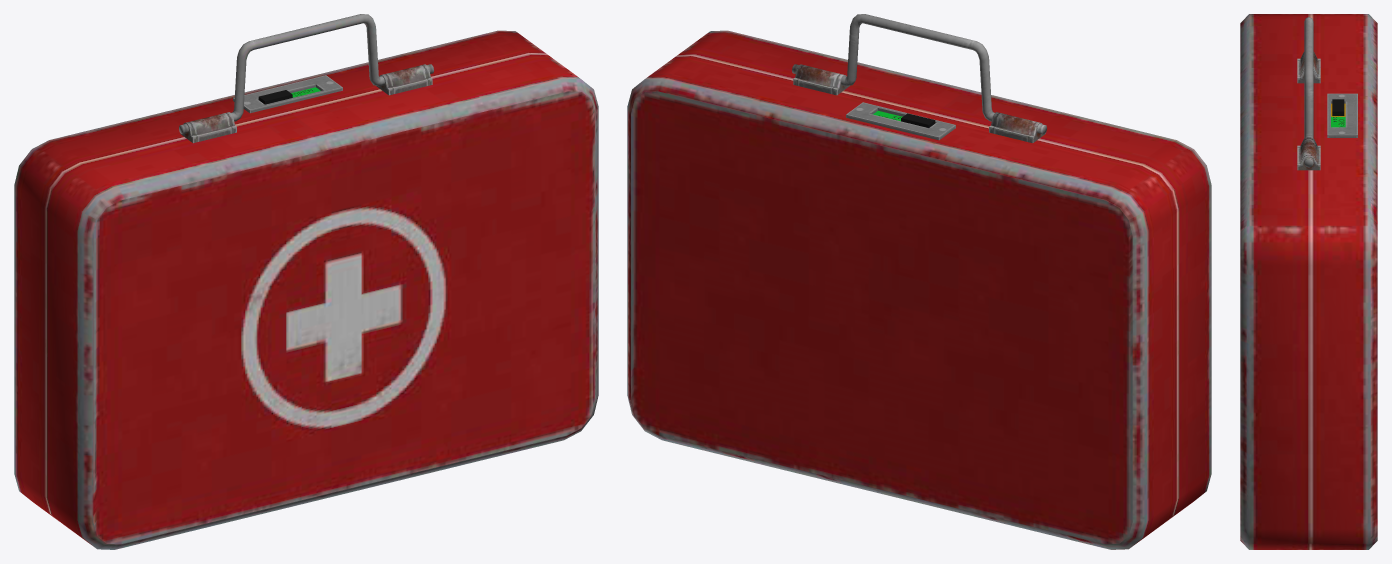
The model's file is medkit.glb.
The picture shows the model from 3 angles, left to right: view 1: azimuth 30°, elevation 25°; view 2: azimuth 150°, elevation 25°; view 3: azimuth 270°, elevation 25°; orthographic projection. The views are drawn at different scales.
Visible parts, largest first — view 1: MediKit_Material #25_0; view 2: MediKit_Material #25_0; view 3: MediKit_Material #25_0.
Part boxes in pixels (x1=…): MediKit_Material #25_0: x1=14, y1=14, x2=598, y2=549; MediKit_Material #25_0: x1=627, y1=14, x2=1211, y2=549; MediKit_Material #25_0: x1=1240, y1=14, x2=1377, y2=549.
Bounding box in the file's own units: 0.002 × 0.00169 × 0.000504.
Materials: 1 (1 with a texture image).
